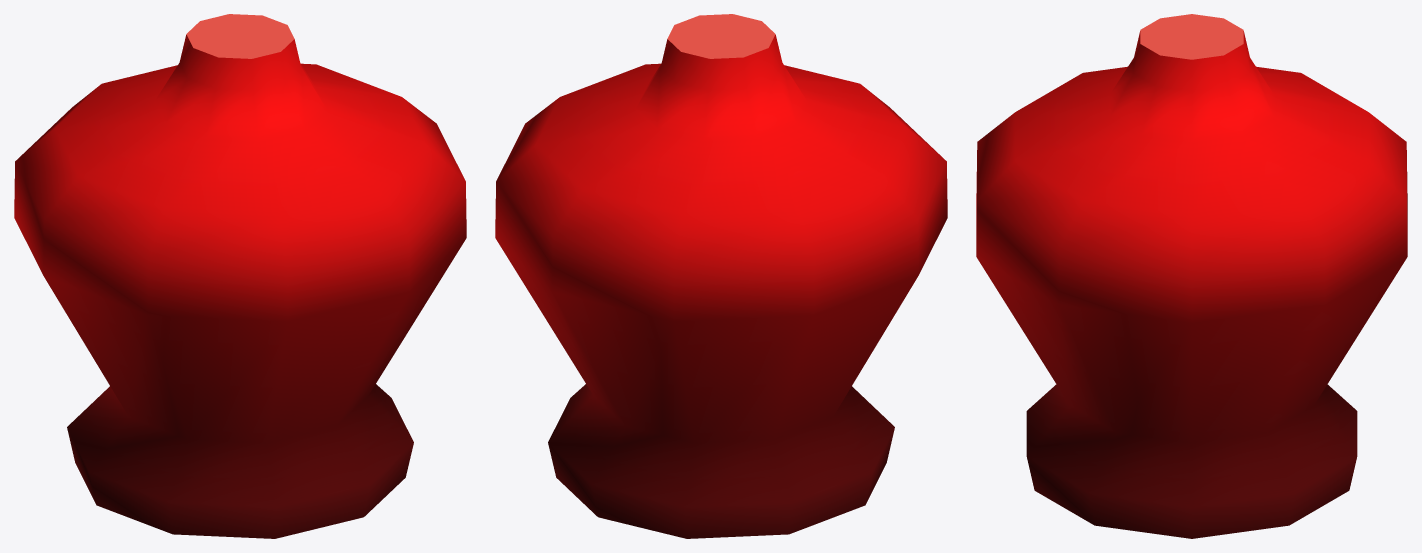
Rendered from Potion_E_L_Liquid.fbx.
3 renders of one model, left to right at view 1: azimuth 30°, elevation 25°; view 2: azimuth 150°, elevation 25°; view 3: azimuth 270°, elevation 25°, orthographic.
Visible parts, largest first — view 1: Potion_E_L_Liquid; view 2: Potion_E_L_Liquid; view 3: Potion_E_L_Liquid.
Boxes of the visible parts, x1=… form: Potion_E_L_Liquid: x1=14, y1=14, x2=466, y2=538; Potion_E_L_Liquid: x1=495, y1=14, x2=947, y2=538; Potion_E_L_Liquid: x1=976, y1=14, x2=1407, y2=538.
Bounding box in the file's own units: 52.43 × 55.14 × 49.86.
